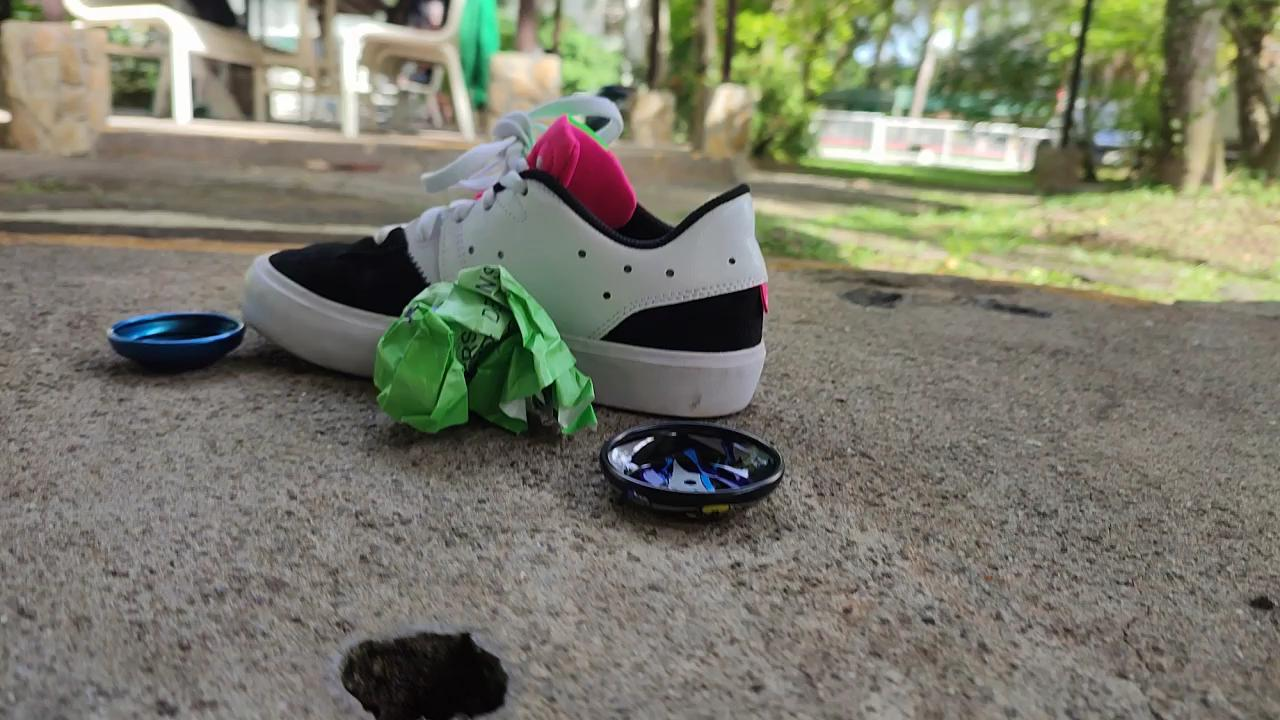Paper: (353, 244, 610, 464)
